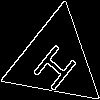H: (30, 35, 85, 94)
